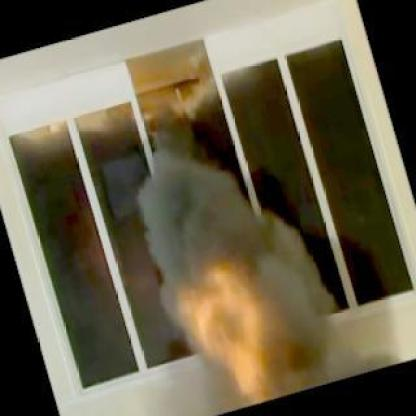Fire: (180, 269, 273, 399)
Smoke: (118, 107, 364, 414)
